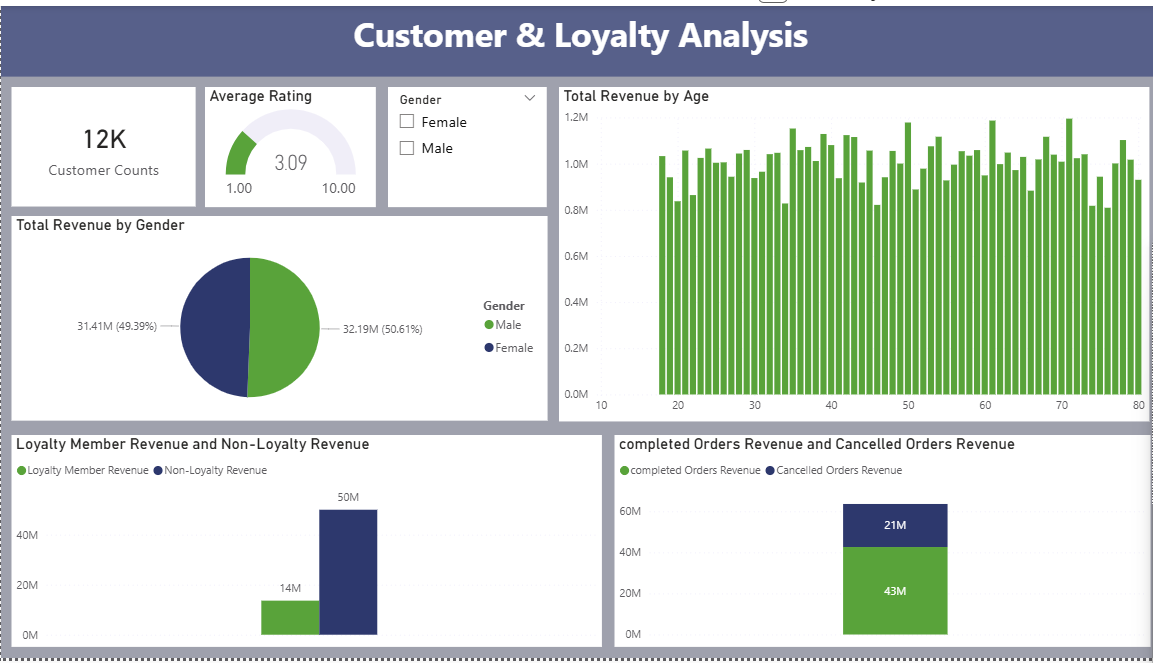

The dashboard page shown, as its layout file describes it:
{"tool":"powerbi","page":{"name":"Customer & Loyalty  analysis","canvas":[1280,720],"ordinal":1},"visuals":[{"type":"clusteredColumnChart","fields":{"Category":["Electronic_sales.Age"],"Y":["Electronic_sales.Total Revenue"]},"box":[616.5,89.5,652.2,369.2],"z":0},{"type":"textbox","box":[0,0,1280.5,77.9],"z":1},{"type":"pieChart","fields":{"Category":["Electronic_sales.Gender"],"Y":["Electronic_sales.Total Revenue"]},"box":[11.4,232.6,592.1,226.1],"z":2},{"type":"clusteredColumnChart","fields":{"Y":["Electronic_sales.Loyality Member Revenue","Electronic_sales.Non-Loyality Revenue"]},"box":[11.4,473.3,652.2,234.2],"z":3},{"type":"columnChart","fields":{"Y":["Electronic_sales.completed Orders Revenue","Electronic_sales.Cancelled Orders Revenue"]},"box":[677,473,592,234],"z":4},{"type":"card","fields":{"Values":["Electronic_sales.Customer Counts"]},"box":[11.4,89.5,203.3,131.8],"z":5},{"type":"gauge","fields":{"Y":["Electronic_sales.Average Rating"]},"box":[225.3,89.4,188.8,132.5],"z":6},{"type":"slicer","fields":{"Values":["Electronic_sales.Gender"]},"box":[427.4,89.4,175.6,132.5],"z":7}]}

Visuals, with their boxes in screenshot pixels (x1, y1, x2, y2), scaled from the page's 1280x720 canvas onto the 1153x663 screenshot:
clusteredColumnChart - Electronic_sales.Age x Electronic_sales.Total Revenue: <box>555,82,1143,422</box>
textbox: <box>0,0,1152,72</box>
pieChart - Electronic_sales.Gender x Electronic_sales.Total Revenue: <box>10,214,544,422</box>
clusteredColumnChart - Electronic_sales.Loyality Member Revenue x Electronic_sales.Non-Loyality Revenue: <box>10,436,598,651</box>
columnChart - Electronic_sales.completed Orders Revenue x Electronic_sales.Cancelled Orders Revenue: <box>610,436,1143,651</box>
card - Electronic_sales.Customer Counts: <box>10,82,193,204</box>
gauge - Electronic_sales.Average Rating: <box>203,82,373,204</box>
slicer - Electronic_sales.Gender: <box>385,82,543,204</box>
